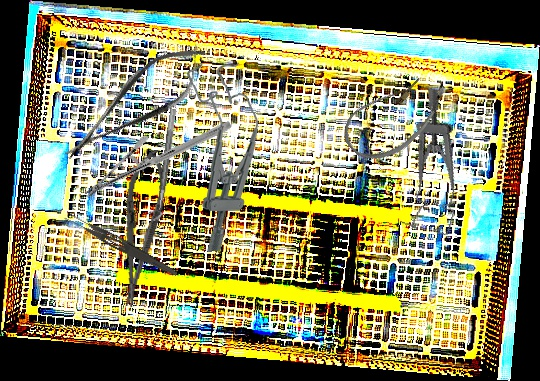Cannula: (334, 54, 457, 176)
Dressing Forceps: (62, 209, 181, 279)
Fixation Ring: (144, 106, 178, 223)
Micro Scissor: (50, 31, 220, 175)
Needle Holder: (82, 76, 234, 243), (109, 146, 172, 310)
Speculum: (186, 60, 263, 253), (389, 87, 486, 238)
